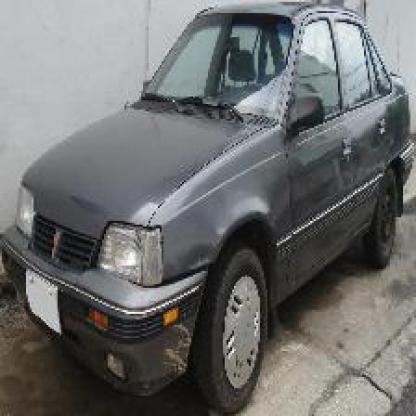not_emergency: (20, 4, 410, 414)
